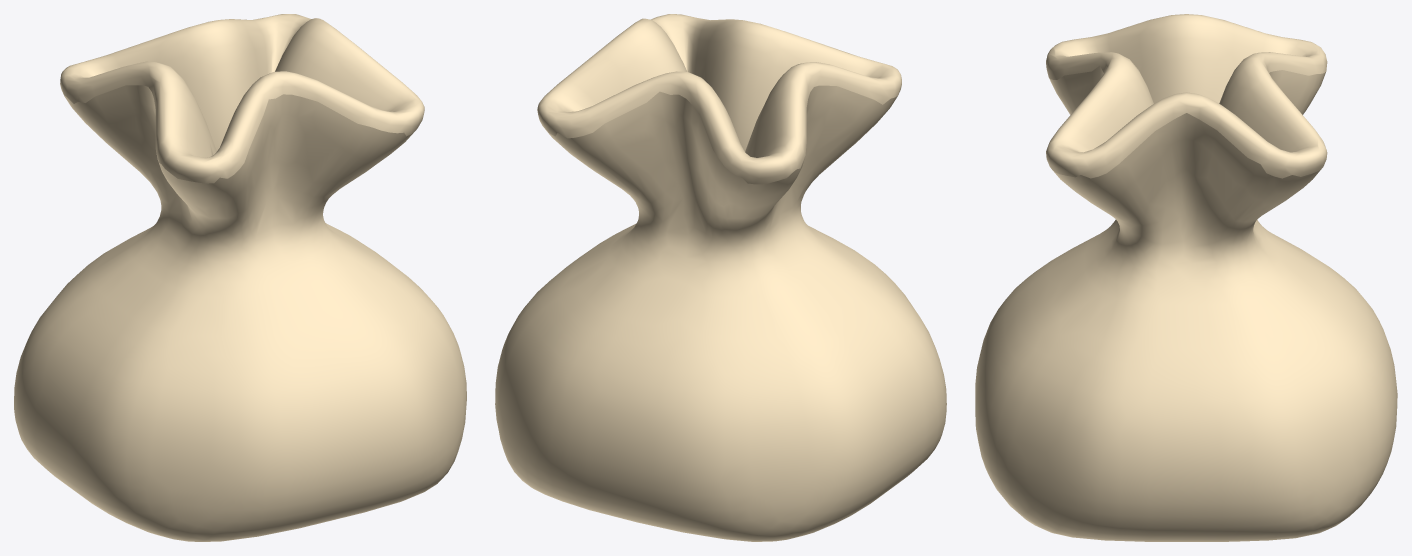
File: Seed_Corn_FBX.fbx
3 views of the same model, side by side, from view 1: azimuth 30°, elevation 25°; view 2: azimuth 150°, elevation 25°; view 3: azimuth 270°, elevation 25° (orthographic).
Visible parts, largest first — view 1: Seed; view 2: Seed; view 3: Seed.
Part boxes in pixels (x1,y1,x2,y2): Seed: (14,14,466,541); Seed: (495,14,946,541); Seed: (975,14,1397,541).
Bounding box in the file's own units: 18.07 × 19.47 × 17.67.
